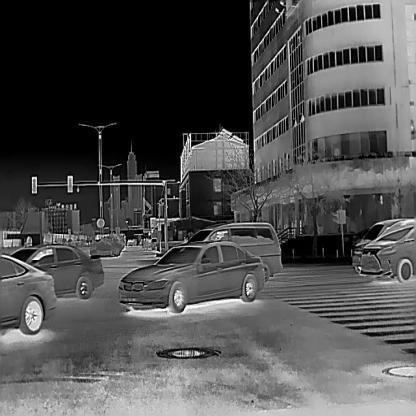car: (117, 240, 265, 312), (187, 221, 283, 282), (8, 242, 104, 298), (0, 252, 57, 335), (359, 218, 415, 282), (352, 218, 409, 274), (127, 238, 133, 245)
